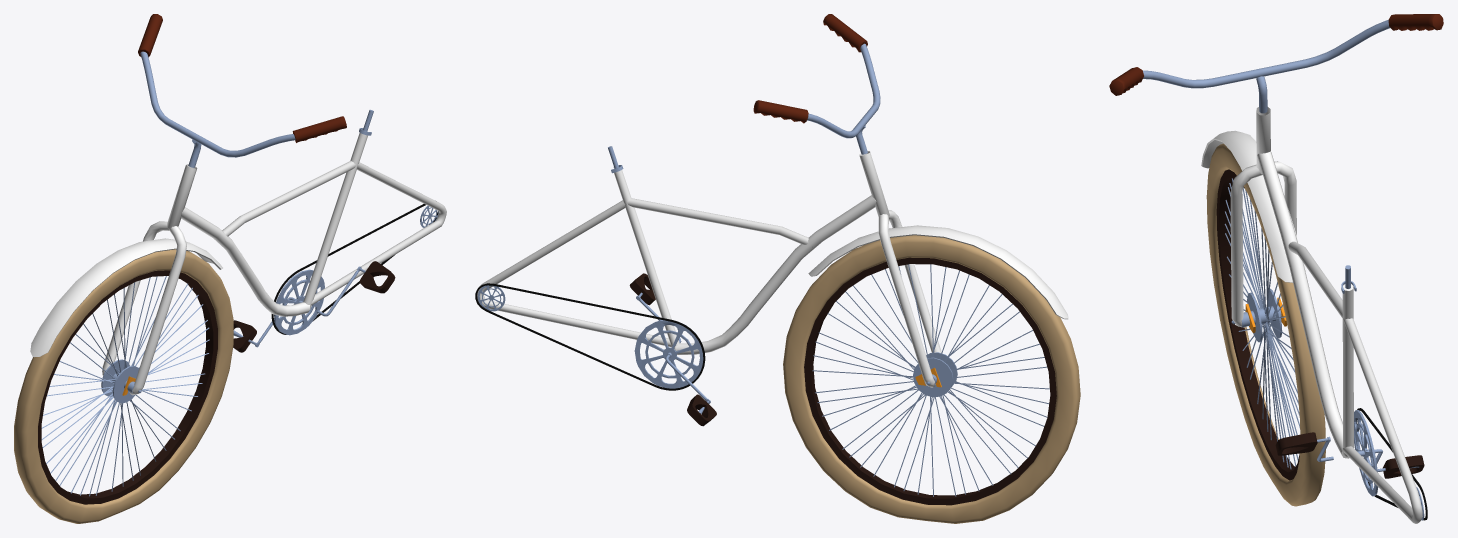
File: velo.fbx
3 renders of one model, left to right at view 1: azimuth 30°, elevation 25°; view 2: azimuth 150°, elevation 25°; view 3: azimuth 270°, elevation 25°, orthographic. The views are drawn at different scales.
Visible parts, largest first — view 1: Cylinder.064, Cylinder.051, Cylinder.066, Line002, Cylinder.056, Cylinder.053, Vert001, Circle.017, Line001, Cylinder.059, Circle.027, Cylinder.055 (+7 smaller); view 2: Cylinder.064, Cylinder.056, Cylinder.051, Cylinder.066, Line002, Circle.017, Line001, Cylinder.053, Circle.019, Cylinder.059, Circle.027, Vert001 (+2 smaller); view 3: Cylinder.064, Cylinder.056, Line002, Cylinder.051, Cylinder.066, Vert001, Cylinder.053, Cylinder.059, Circle.027, Circle.017, Line001, Cube.011 (+10 smaller).
Boxes of the visible parts, x1,y1,x2,y2 form: Cylinder.064: (14, 249, 233, 523); Cylinder.051: (30, 238, 222, 357); Cylinder.066: (102, 221, 186, 395); Line002: (311, 162, 446, 305); Cylinder.056: (181, 207, 310, 316); Cylinder.053: (303, 133, 367, 308); Vert001: (140, 51, 295, 157); Circle.017: (274, 269, 324, 335); Line001: (222, 161, 355, 236); Cylinder.059: (138, 14, 346, 142); Circle.027: (101, 359, 141, 403); Cylinder.055: (167, 164, 197, 228); Cylinder.064: (783, 235, 1080, 523); Cylinder.056: (675, 195, 876, 354); Cylinder.051: (808, 225, 1068, 319); Cylinder.066: (878, 210, 941, 387); Line002: (476, 200, 671, 346); Circle.017: (634, 320, 703, 388); Line001: (626, 198, 812, 247); Cylinder.053: (614, 170, 679, 350); Circle.019: (475, 283, 705, 390); Cylinder.059: (753, 14, 867, 123); Circle.027: (913, 352, 957, 397); Vert001: (807, 43, 880, 138); Cylinder.064: (1206, 143, 1325, 506); Cylinder.056: (1257, 151, 1349, 458); Line002: (1343, 318, 1422, 523); Cylinder.051: (1201, 130, 1306, 282); Cylinder.066: (1230, 161, 1296, 327); Vert001: (1143, 20, 1390, 88); Cylinder.053: (1342, 284, 1353, 456); Cylinder.059: (1109, 14, 1443, 95); Circle.027: (1231, 288, 1283, 342); Circle.017: (1354, 410, 1378, 496); Line001: (1288, 241, 1342, 317); Cube.011: (1275, 432, 1317, 455).
Size of the model in its own units: 1260 by 1013 by 575.
